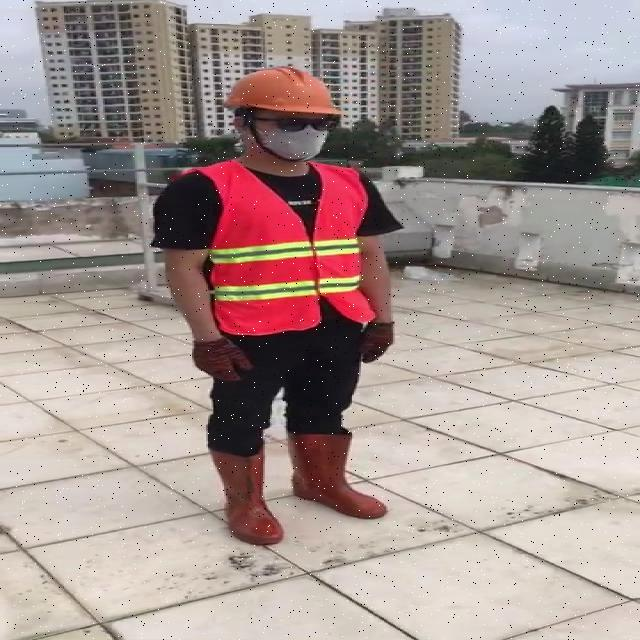Hard_hat: (220, 61, 344, 126)
Vest: (202, 155, 368, 333)
